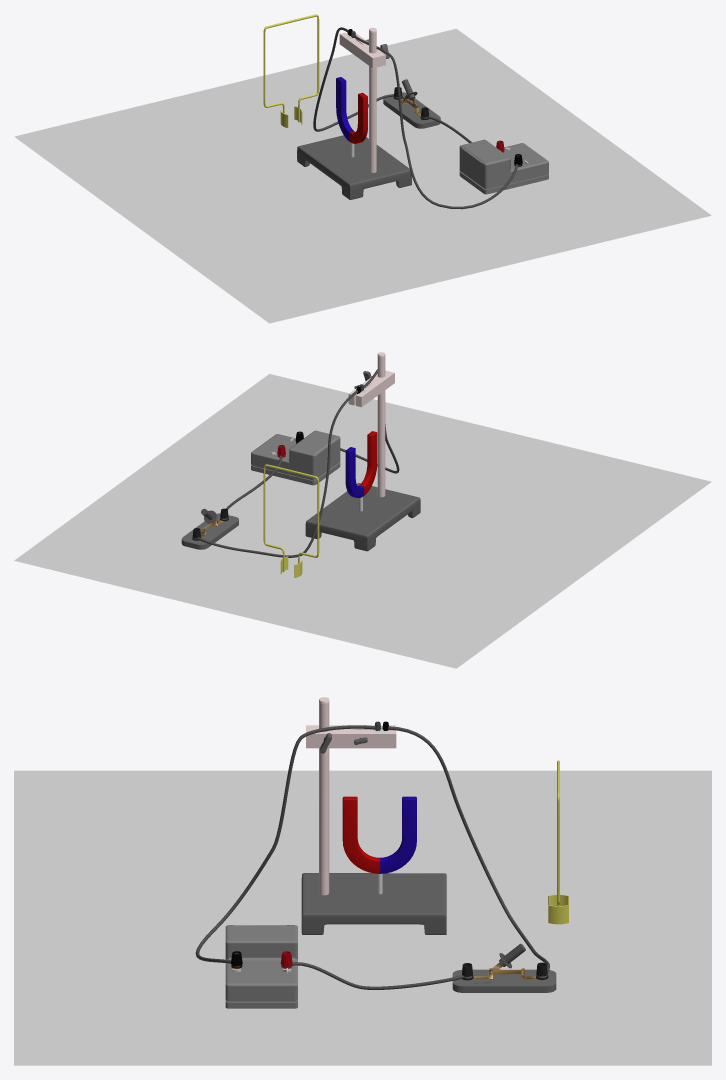
The model's file is AR_all_models.fbx.
3 views of the same model, one above another, from view 1: azimuth 30°, elevation 25°; view 2: azimuth 150°, elevation 25°; view 3: azimuth 270°, elevation 25° (orthographic). The views are drawn at different scales.
Visible parts, largest first — view 1: Plane.002, polySurface2, Cube, Plane, Text, polySurface1, coil.001, BézierCurve.001, pCube4, BézierCurve.002; view 2: Plane.002, polySurface2, Cube, Plane, polySurface1, Text, coil.001, BézierCurve.002, pCube4; view 3: Plane.002, polySurface2, Cube, Plane, Text, polySurface1, pCube4, BézierCurve.001, BézierCurve.002, coil.001, BézierCurve.
Boxes of the visible parts, x1,y1,x2,y2 form: Plane.002: (14,28,711,323); polySurface2: (297,135,411,199); Cube: (459,139,548,194); Plane: (336,77,367,143); Text: (383,87,440,128); polySurface1: (369,27,376,172); coil.001: (263,14,319,127); BézierCurve.001: (354,35,517,209); pCube4: (339,32,385,68); BézierCurve.002: (313,27,394,131); Plane.002: (14,374,711,668); polySurface2: (305,483,420,551); Cube: (251,430,340,485); Plane: (345,431,377,497); polySurface1: (377,352,385,497); Text: (181,508,238,549); coil.001: (263,464,319,577); BézierCurve.002: (196,390,357,557); pCube4: (348,370,394,407); Plane.002: (14,770,711,1065); polySurface2: (301,873,446,934); Cube: (225,925,297,1008); Plane: (342,796,416,873); Text: (452,962,556,992); polySurface1: (319,697,329,895); pCube4: (306,725,396,748); BézierCurve.001: (195,725,375,963); BézierCurve.002: (388,726,549,972); coil.001: (548,760,568,924); BézierCurve: (291,962,464,989).
Size of the model in its own units: 200 by 68.34 by 200.
